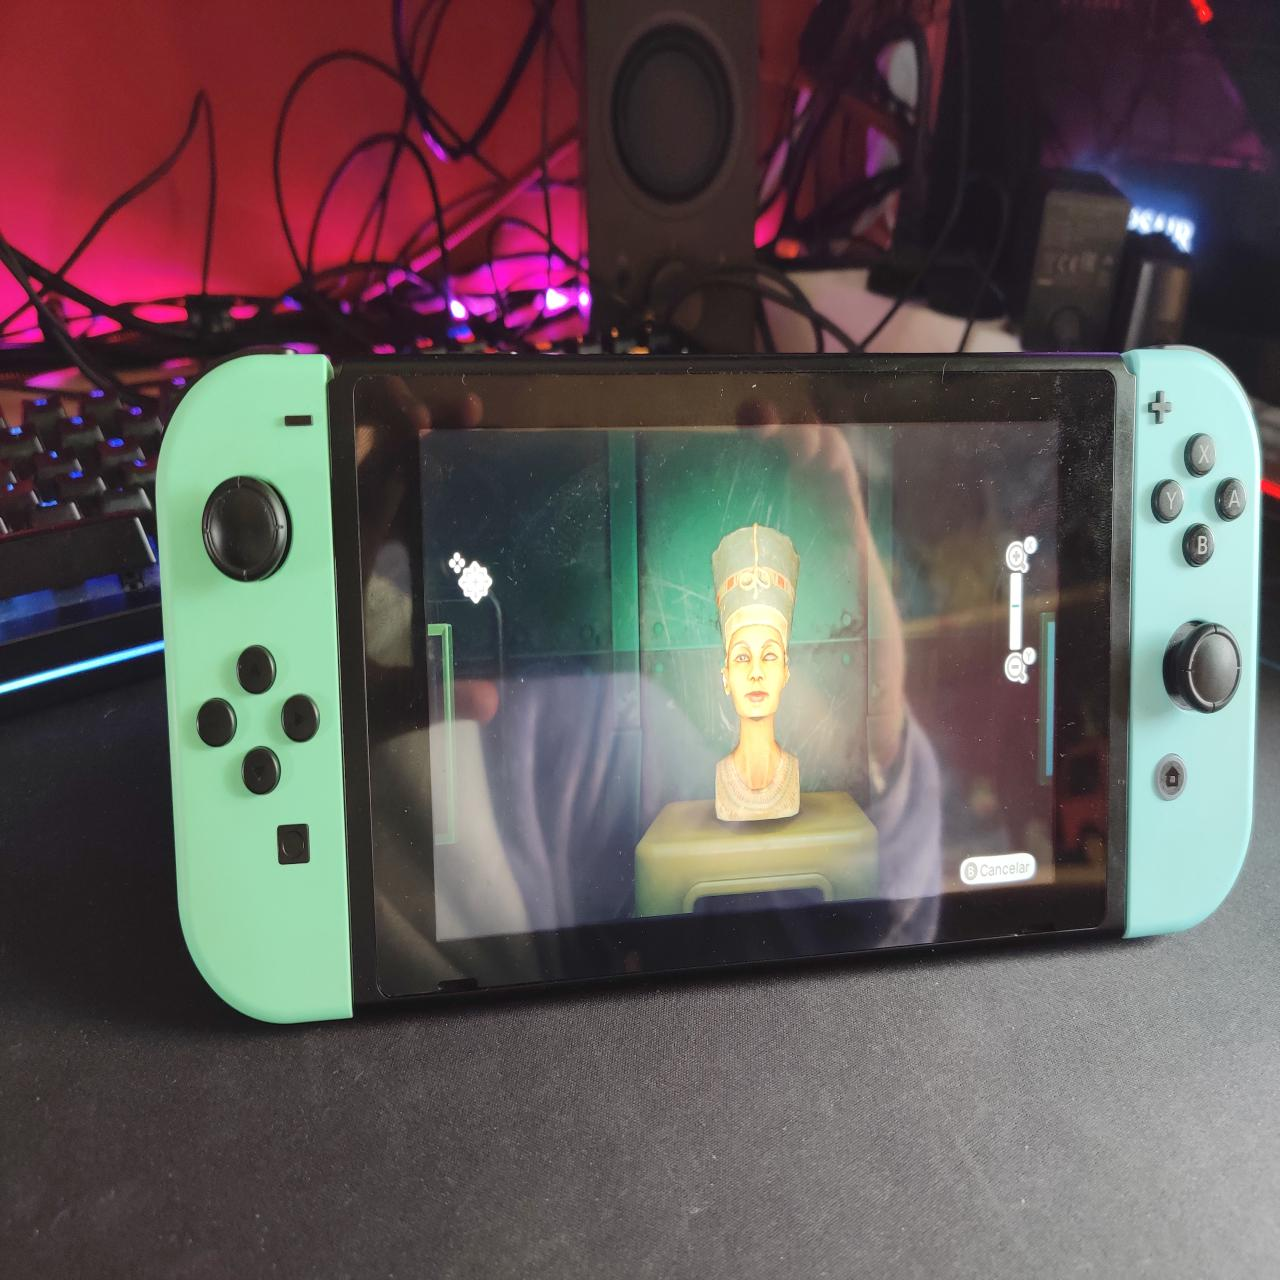Nefertiti: (713, 519, 803, 821)
